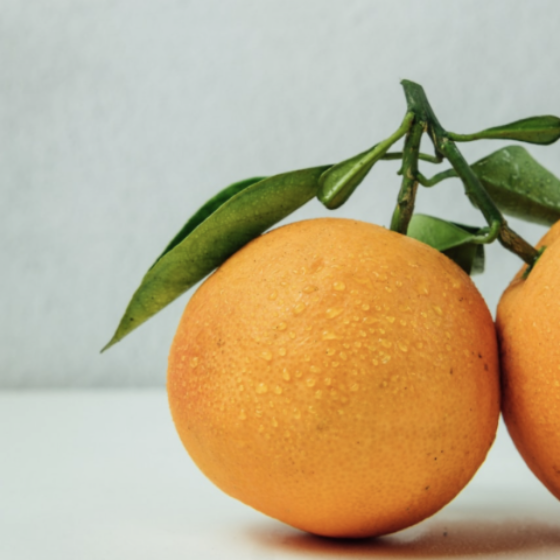orange: (134, 182, 536, 560)
